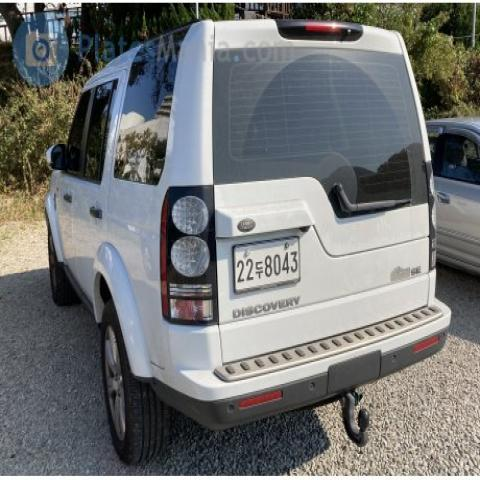LP: (224, 221, 309, 301)
